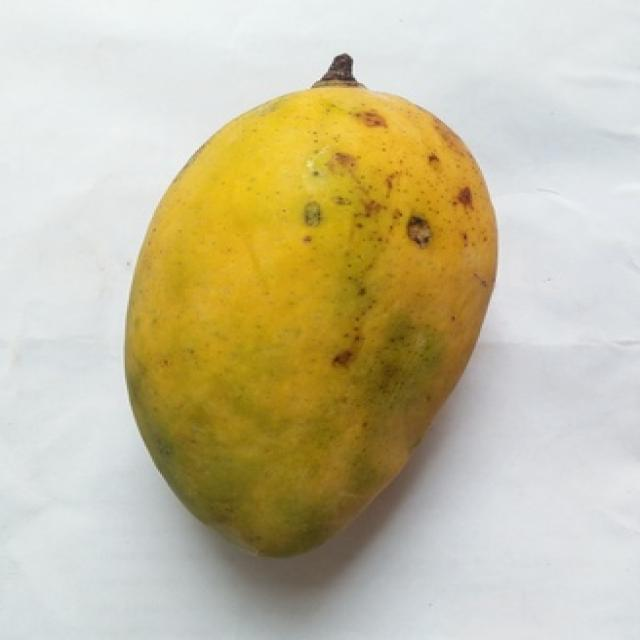Mango: (127, 78, 496, 555)
